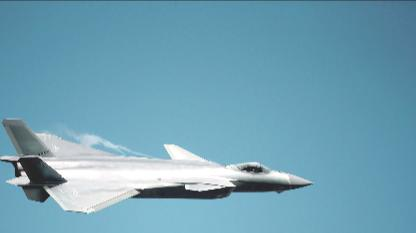F4: (0, 118, 315, 214)
